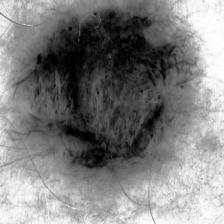Benign Marking or Mole: (22, 3, 195, 186)
